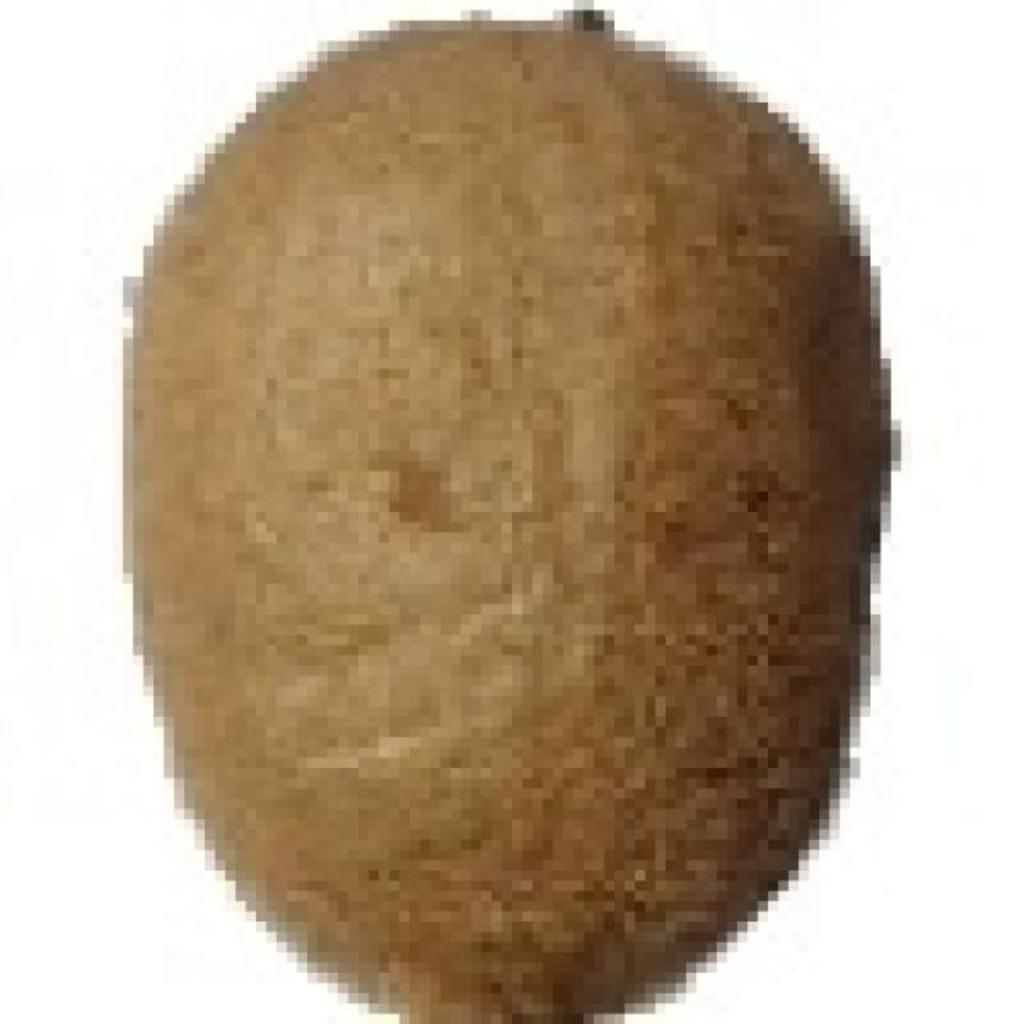kiwi: (123, 10, 870, 1004)
